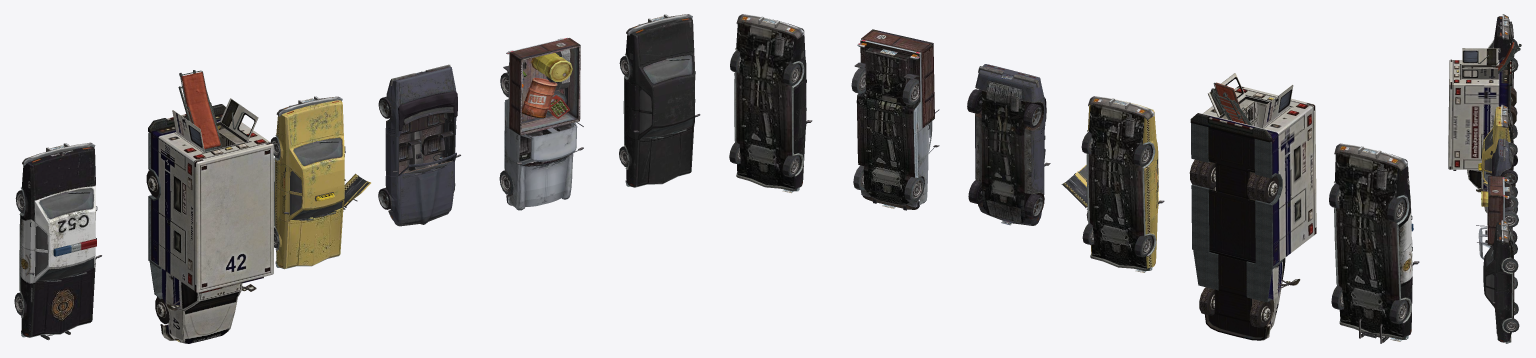
The model's file is cars2.obj.
3 renders of one model, left to right at view 1: azimuth 30°, elevation 25°; view 2: azimuth 150°, elevation 25°; view 3: azimuth 270°, elevation 25°, orthographic. The views are drawn at different scales.
Parts seen in each view (by area): view 1: DrawCall25, DrawCall13, DrawCall14, DrawCall12, DrawCall_2, DrawCall11, DrawCall22, DrawCall10, DrawCall15, DrawCall23; view 2: DrawCall25, DrawCall13, DrawCall11, DrawCall14, DrawCall12, DrawCall_2, DrawCall23, DrawCall22; view 3: DrawCall25, DrawCall14, DrawCall11, DrawCall12, DrawCall22, DrawCall_2, DrawCall13, DrawCall21, DrawCall24, DrawCall15.
Boxes of the visible parts, x1,y1,x2,y2 form: DrawCall25: [148, 98, 273, 292]; DrawCall13: [14, 142, 101, 340]; DrawCall14: [619, 14, 700, 187]; DrawCall12: [270, 96, 370, 269]; DrawCall_2: [378, 64, 460, 226]; DrawCall11: [499, 37, 583, 210]; DrawCall22: [146, 72, 266, 343]; DrawCall10: [522, 77, 557, 118]; DrawCall15: [531, 53, 572, 81]; DrawCall23: [148, 132, 162, 299]; DrawCall25: [1190, 73, 1316, 337]; DrawCall13: [1329, 143, 1419, 343]; DrawCall11: [851, 29, 939, 210]; DrawCall14: [729, 14, 812, 193]; DrawCall12: [1063, 96, 1164, 272]; DrawCall_2: [967, 64, 1050, 225]; DrawCall23: [1191, 123, 1282, 302]; DrawCall22: [1189, 82, 1312, 340]; DrawCall25: [1448, 48, 1512, 169]; DrawCall14: [1483, 220, 1519, 343]; DrawCall11: [1476, 175, 1518, 289]; DrawCall12: [1478, 104, 1517, 213]; DrawCall22: [1453, 42, 1516, 212]; DrawCall_2: [1492, 138, 1517, 242]; DrawCall13: [1488, 14, 1518, 130]; DrawCall21: [1463, 51, 1477, 62]; DrawCall24: [1477, 42, 1518, 68]; DrawCall15: [1481, 191, 1488, 206].
Bounding box in the file's own units: 6640 × 2415 × 949.
Materials: 17 (17 with a texture image).
